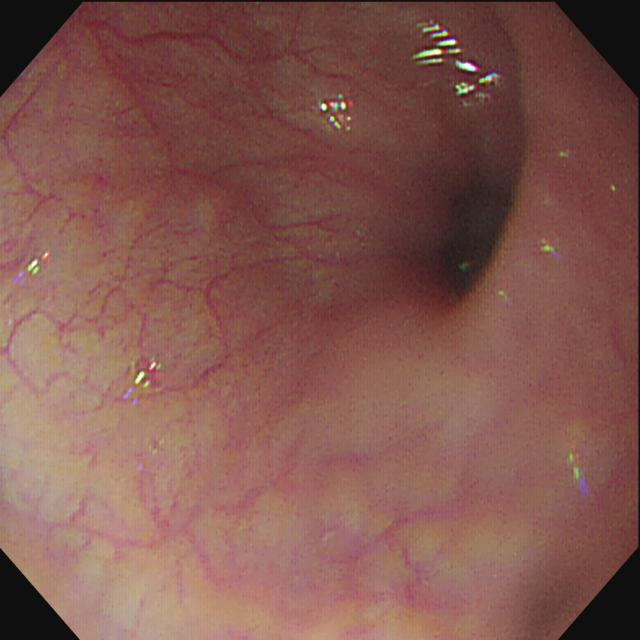E: (417, 166, 533, 325)
U: (409, 18, 503, 107), (122, 356, 165, 402), (319, 90, 357, 136), (18, 249, 54, 285)
